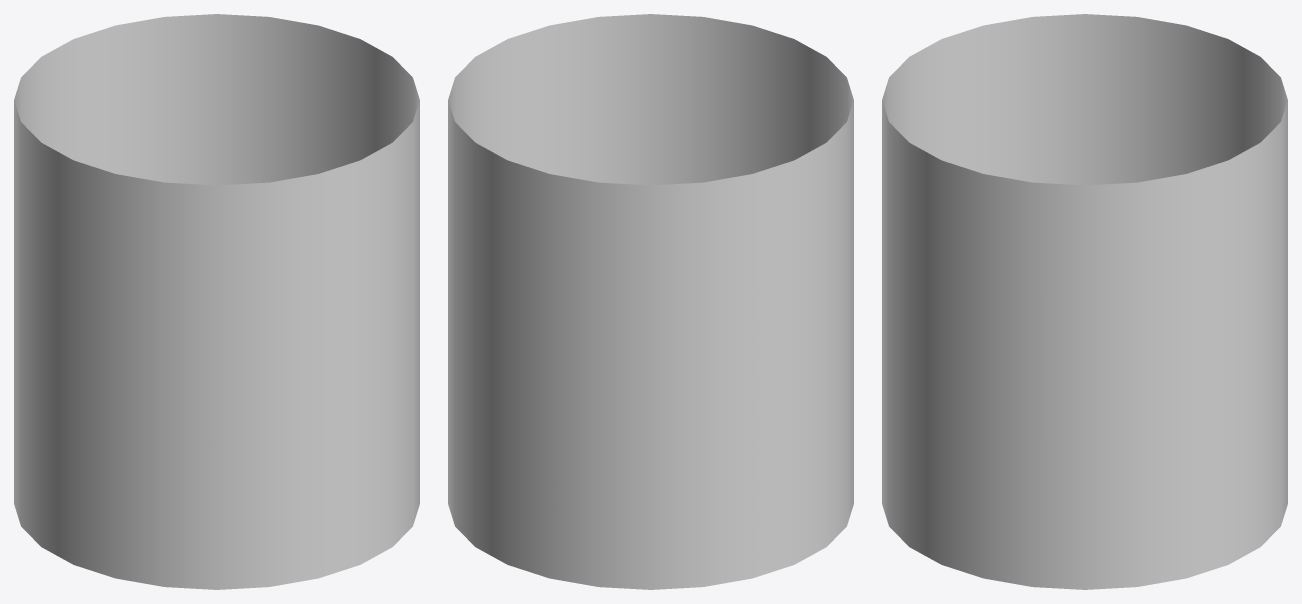
Rendered from ThunderCylinder.fbx.
3 renders of one model, left to right at view 1: azimuth 30°, elevation 25°; view 2: azimuth 150°, elevation 25°; view 3: azimuth 270°, elevation 25°, orthographic.
Visible parts, largest first — view 1: wallCylinder_center_smooth.mo; view 2: wallCylinder_center_smooth.mo; view 3: wallCylinder_center_smooth.mo.
Part boxes in pixels (x1=…): wallCylinder_center_smooth.mo: x1=14, y1=14, x2=419, y2=589; wallCylinder_center_smooth.mo: x1=448, y1=14, x2=853, y2=589; wallCylinder_center_smooth.mo: x1=882, y1=14, x2=1287, y2=589.
Size of the model in its own units: 20 by 22 by 20.
